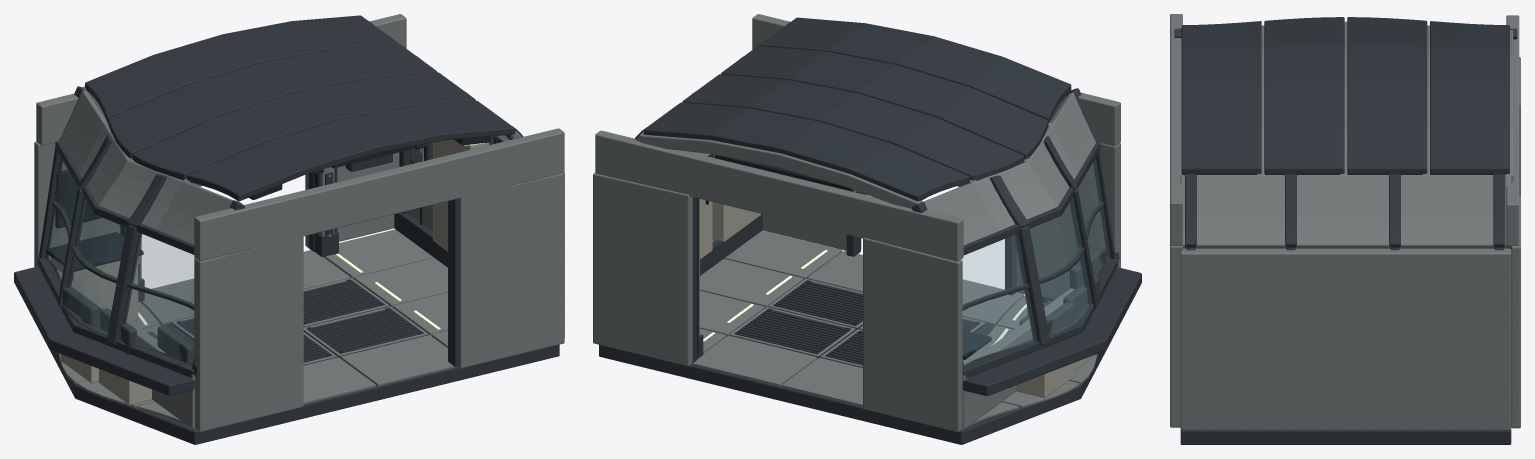
The model's file is arrival-room-v4.glb.
3 renders of one model, left to right at view 1: azimuth 30°, elevation 25°; view 2: azimuth 150°, elevation 25°; view 3: azimuth 270°, elevation 25°, orthographic. The views are drawn at different scales.
Visible parts, largest first — view 1: ARR4 rear wall, ARR4 rear wall.001, ARR4 rear header, ARR4 ceiling panel.003, ARR4 ceiling panel.002, ARR4 ceiling panel.001, ARR4 ceiling panel, ARR4 ceiling shoulder panel, ARR4 floor substrate, ARR4 panoramic glass.002, ARR4 outer hull sill, ARR4 panoramic glass.001 (+33 smaller); view 2: ARR4 front wall, ARR4 front wall.001, ARR4 access header, ARR4 ceiling panel, ARR4 ceiling panel.001, ARR4 ceiling panel.002, ARR4 ceiling panel.003, ARR4 ceiling shoulder panel, ARR4 floor substrate, ARR4 panoramic glass, ARR4 outer hull sill, ARR4 rear wall (+35 smaller); view 3: ARR4 starboard wall, ARR4 ceiling shoulder panel.001, ARR4 ceiling panel.002, ARR4 ceiling panel.001, ARR4 ceiling panel.003, ARR4 ceiling panel, ARR4 floor substrate, ARR4 rear header, ARR4 access header, ARR4 rear wall.001, ARR4 front wall.001, ARR4 starboard shoulder (+7 smaller).
Boxes of the visible parts, bbox=[...] form: ARR4 rear wall: bbox=[194, 236, 303, 431]; ARR4 rear wall.001: bbox=[457, 173, 564, 368]; ARR4 rear header: bbox=[194, 128, 564, 261]; ARR4 ceiling panel.003: bbox=[187, 101, 514, 201]; ARR4 ceiling panel.002: bbox=[132, 72, 475, 179]; ARR4 ceiling panel.001: bbox=[108, 44, 436, 158]; ARR4 ceiling panel: bbox=[85, 15, 398, 122]; ARR4 ceiling shoulder panel: bbox=[60, 91, 232, 244]; ARR4 floor substrate: bbox=[50, 277, 559, 444]; ARR4 panoramic glass.002: bbox=[119, 233, 194, 365]; ARR4 outer hull sill: bbox=[14, 266, 194, 395]; ARR4 panoramic glass.001: bbox=[64, 196, 126, 336]; ARR4 front wall: bbox=[863, 237, 962, 432]; ARR4 front wall.001: bbox=[593, 173, 692, 366]; ARR4 access header: bbox=[595, 130, 963, 261]; ARR4 ceiling panel: bbox=[643, 102, 969, 201]; ARR4 ceiling panel.001: bbox=[682, 74, 1024, 180]; ARR4 ceiling panel.002: bbox=[721, 46, 1048, 159]; ARR4 ceiling panel.003: bbox=[759, 17, 1071, 123]; ARR4 ceiling shoulder panel: bbox=[924, 92, 1095, 244]; ARR4 floor substrate: bbox=[599, 278, 1106, 444]; ARR4 panoramic glass: bbox=[961, 234, 1036, 365]; ARR4 outer hull sill: bbox=[962, 267, 1141, 396]; ARR4 rear wall: bbox=[1016, 143, 1120, 294]; ARR4 starboard wall: bbox=[1180, 248, 1511, 430]; ARR4 ceiling shoulder panel.001: bbox=[1180, 175, 1511, 248]; ARR4 ceiling panel.002: bbox=[1264, 17, 1344, 174]; ARR4 ceiling panel.001: bbox=[1347, 17, 1427, 174]; ARR4 ceiling panel.003: bbox=[1181, 21, 1261, 174]; ARR4 ceiling panel: bbox=[1430, 21, 1509, 174]; ARR4 floor substrate: bbox=[1180, 429, 1511, 444]; ARR4 rear header: bbox=[1170, 14, 1182, 245]; ARR4 access header: bbox=[1506, 15, 1519, 245]; ARR4 rear wall.001: bbox=[1170, 245, 1182, 427]; ARR4 front wall.001: bbox=[1511, 195, 1520, 428]; ARR4 starboard shoulder: bbox=[1493, 174, 1505, 247].
Bounding box in the file's own units: 6.72 × 3.72 × 4.38.
Materials: 8 (4 with a texture image).
